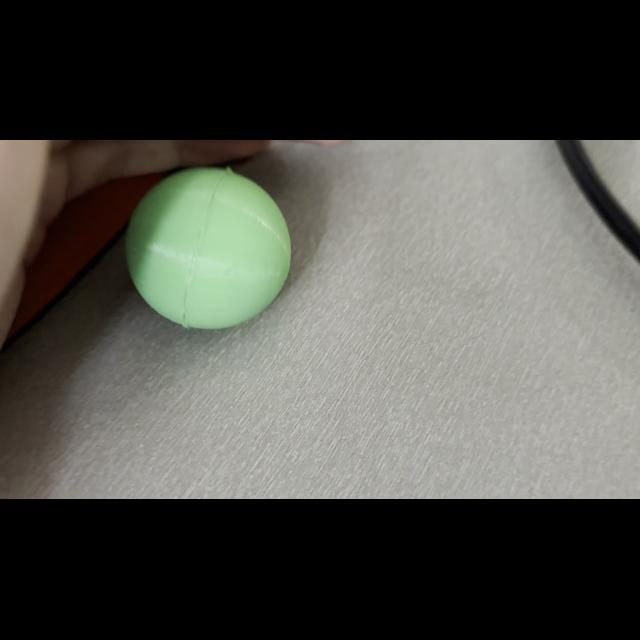objects: (116, 156, 300, 340)
